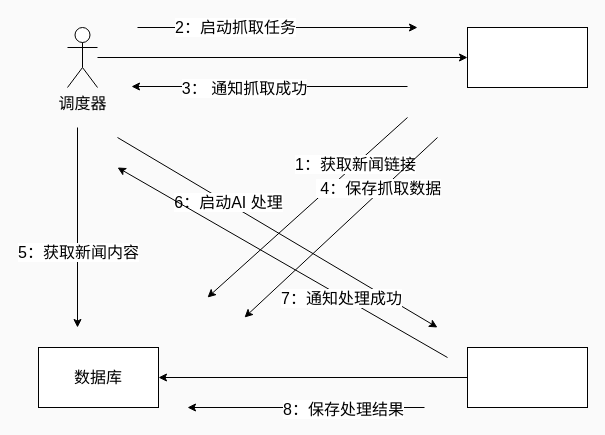
The diagram is 605 pixels wide and 435 high, and some of its shapes have lost their labels. The shapes that lost their labels are listed below. From the top down, each one's centre as x and y in pixels, then its label:
At point 527,57: "抓取服务".
At point 527,377: "AI 处理服务".
